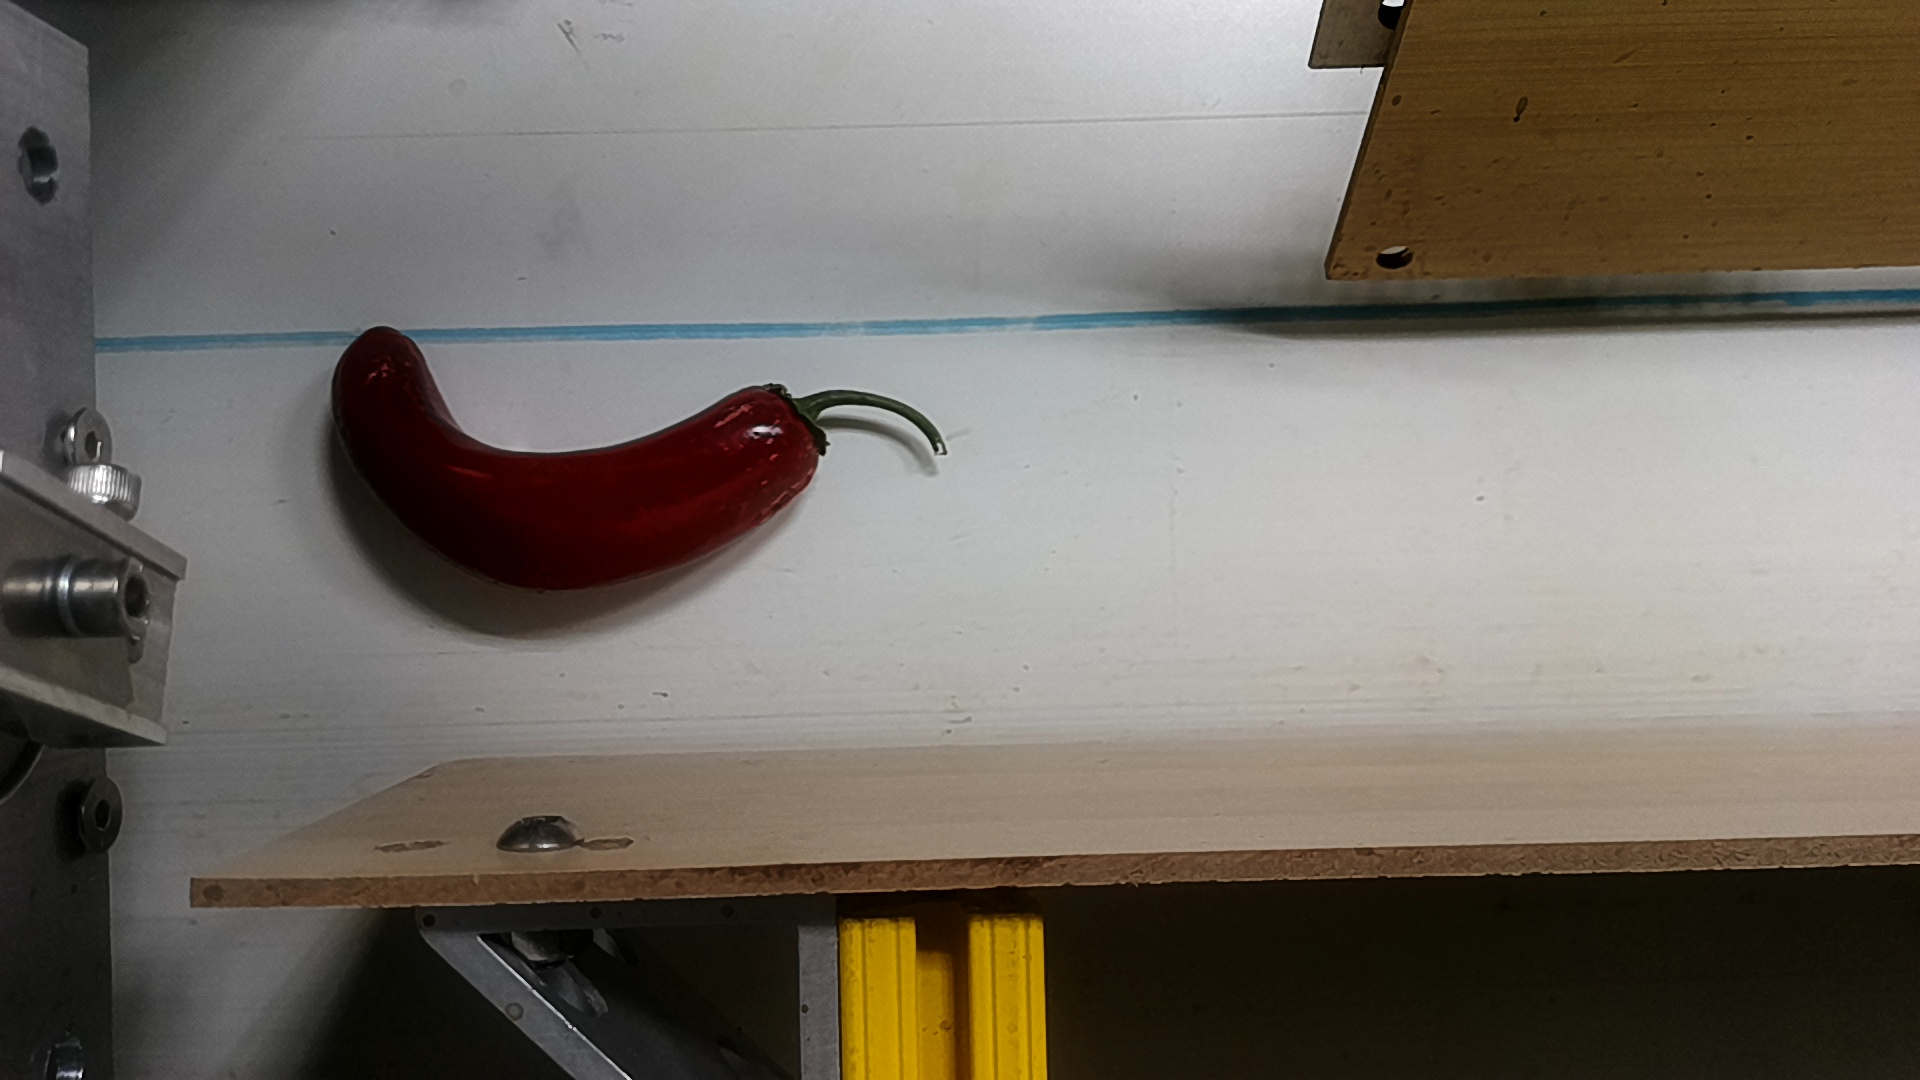Cut Point: (735, 355, 853, 480)
